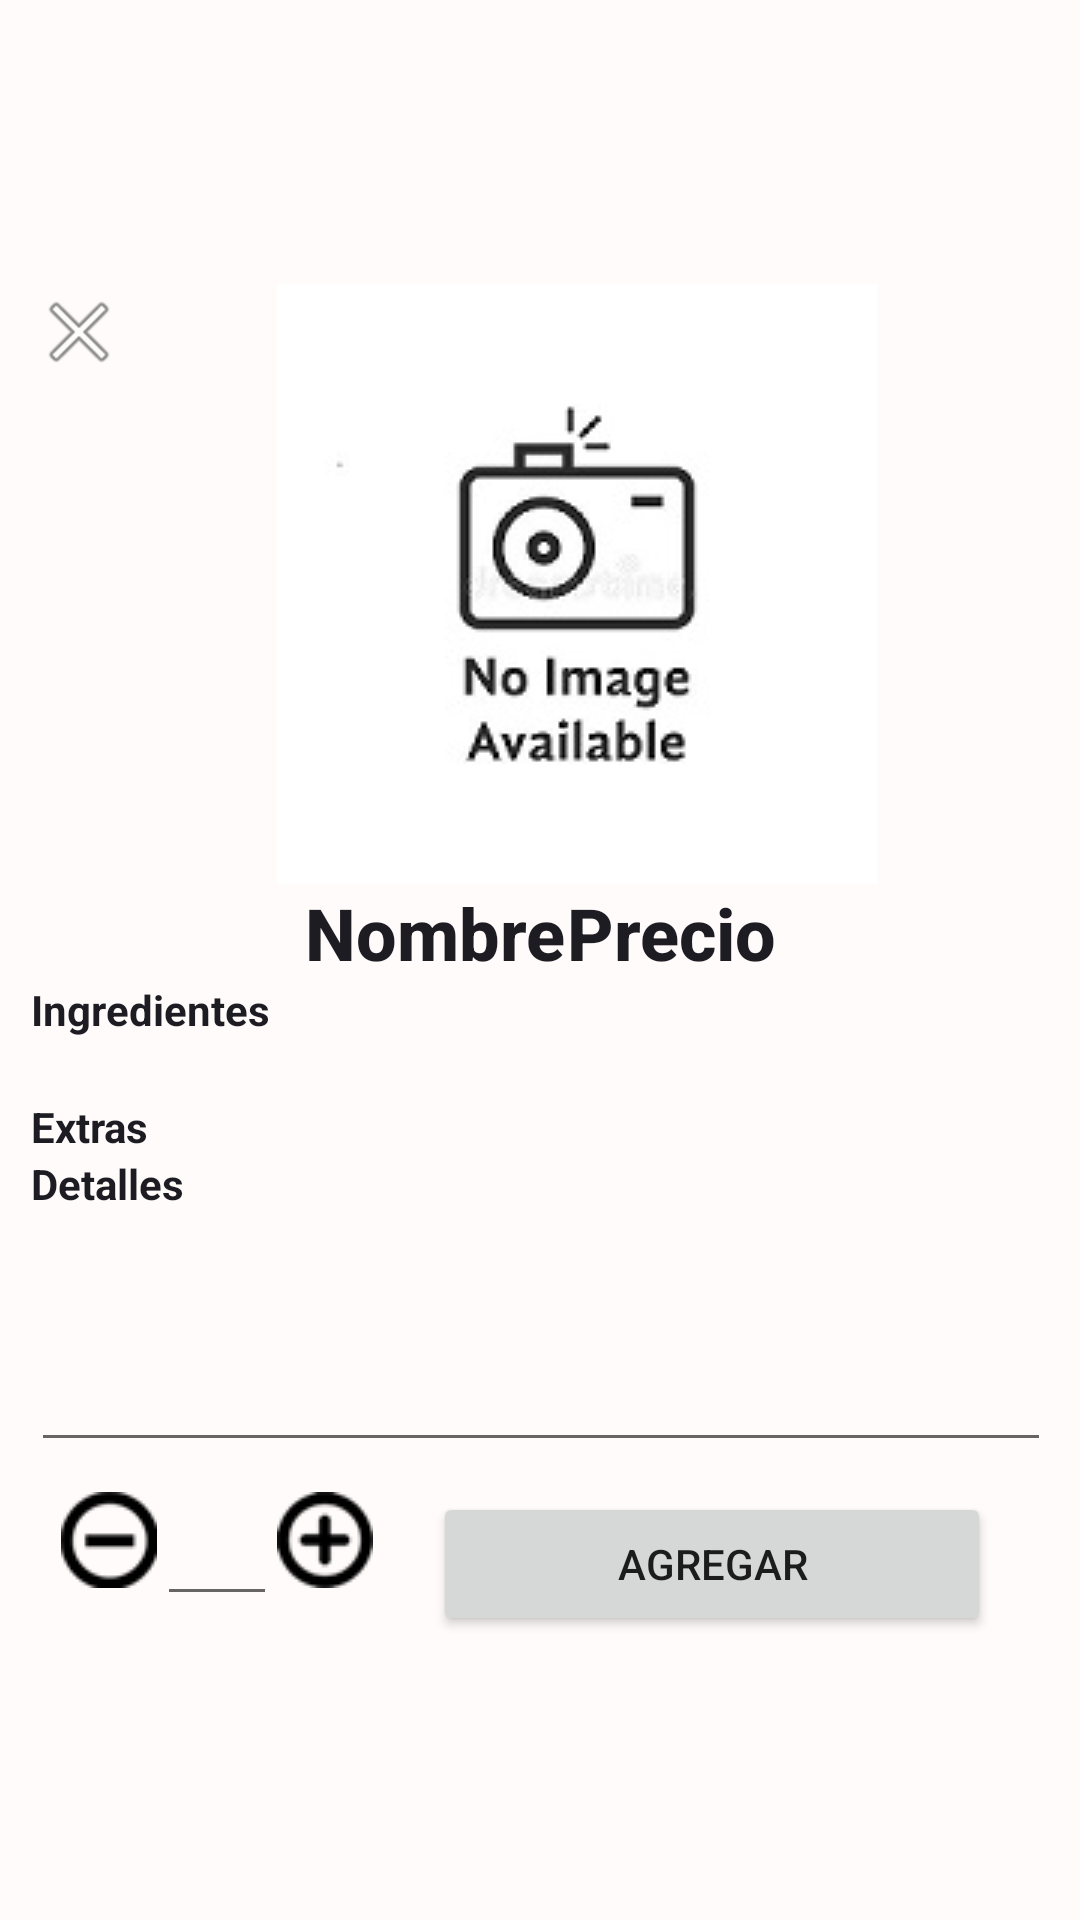

Screen size 1080×1920. Icon name, then its center in pixels as (x=x, y=y):
close clear cancel: (x=79, y=332)
mas: (x=325, y=1540)
menos: (x=109, y=1540)
